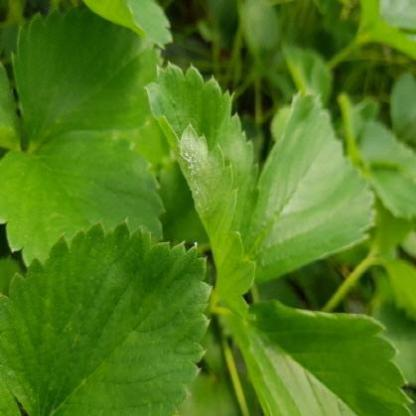Strawberry_Powdery_Mildew_Leaf: (142, 60, 260, 320)
